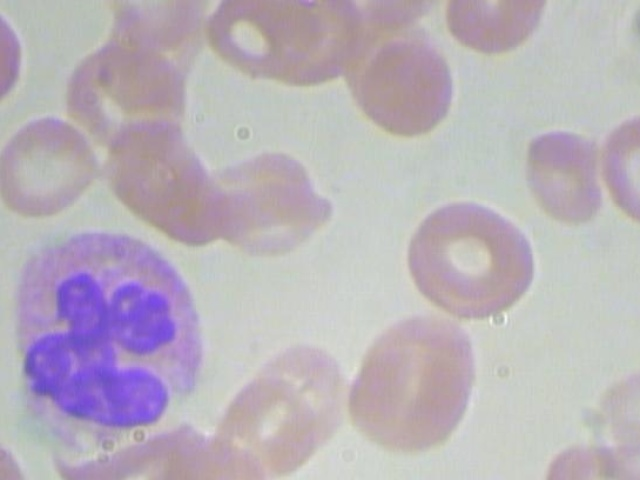RBC: (334, 333, 477, 458), (402, 190, 536, 321), (58, 36, 191, 148), (202, 181, 338, 268), (519, 104, 603, 238), (353, 35, 456, 144), (0, 114, 100, 223), (363, 313, 480, 398), (95, 0, 213, 51), (444, 0, 547, 56), (595, 106, 640, 233)
WBC: (0, 223, 219, 452)
